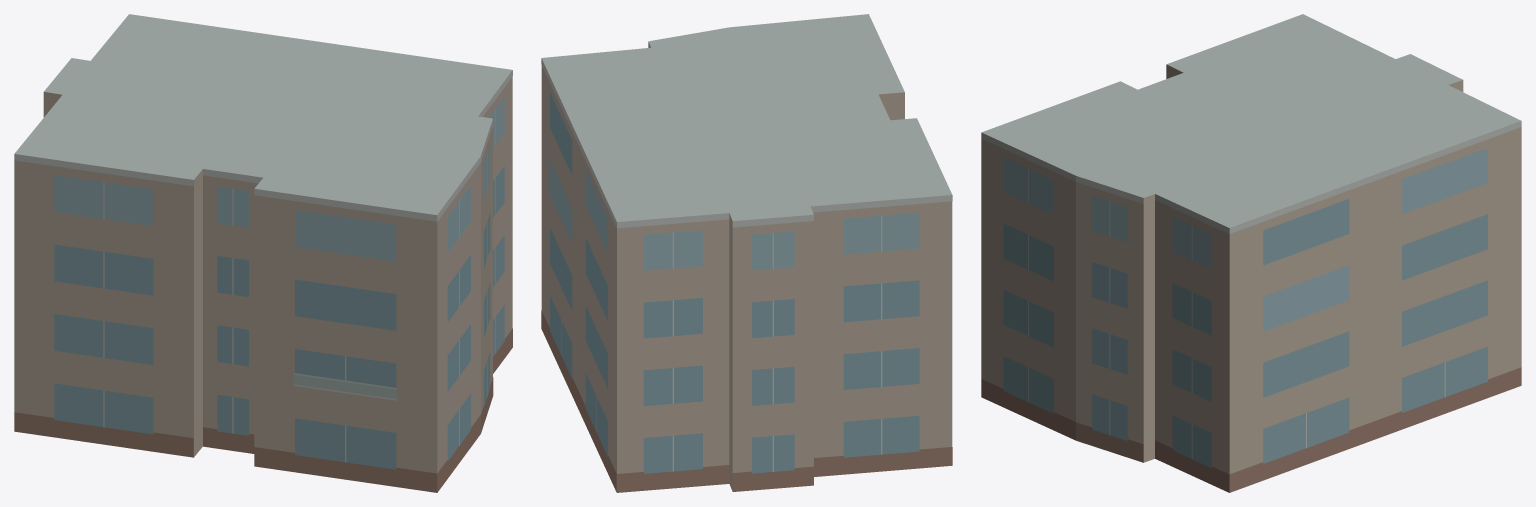
File: survey-upis-32662347.glb
3 views of the same model, side by side, from view 1: azimuth 30°, elevation 25°; view 2: azimuth 150°, elevation 25°; view 3: azimuth 270°, elevation 25° (orthographic). The views are drawn at different scales.
Visible parts, largest first — view 1: survey-upis-32662347.tmp; view 2: survey-upis-32662347.tmp; view 3: survey-upis-32662347.tmp.
Part boxes in pixels (x1,y1,x2,y2): survey-upis-32662347.tmp: (14, 14, 512, 492); survey-upis-32662347.tmp: (541, 14, 952, 492); survey-upis-32662347.tmp: (981, 14, 1521, 492).
Size of the model in its own units: 18.21 by 10.5 by 19.42.
